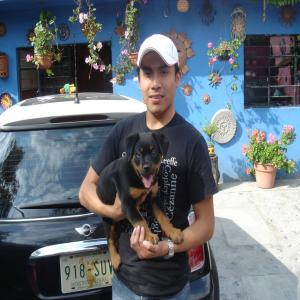Vehicle-registration-plate: (50, 245, 115, 295)
